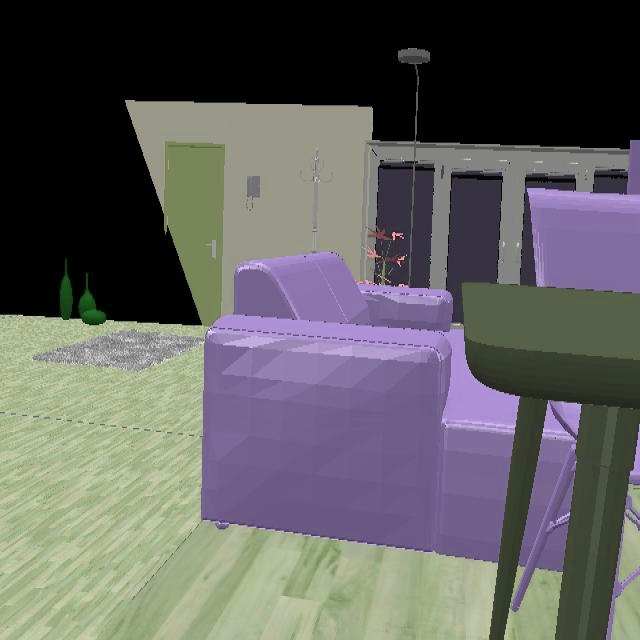chair: (530, 189, 640, 292), (511, 443, 575, 611), (551, 402, 580, 439)
sofa: (203, 253, 518, 559), (520, 415, 571, 562)
table: (463, 283, 640, 638)
